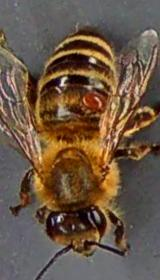varroa_mite: (76, 86, 115, 119)
